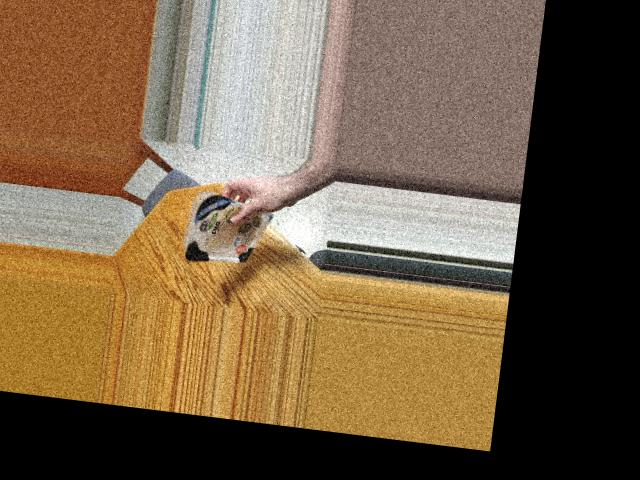cheese: (177, 187, 259, 264)
